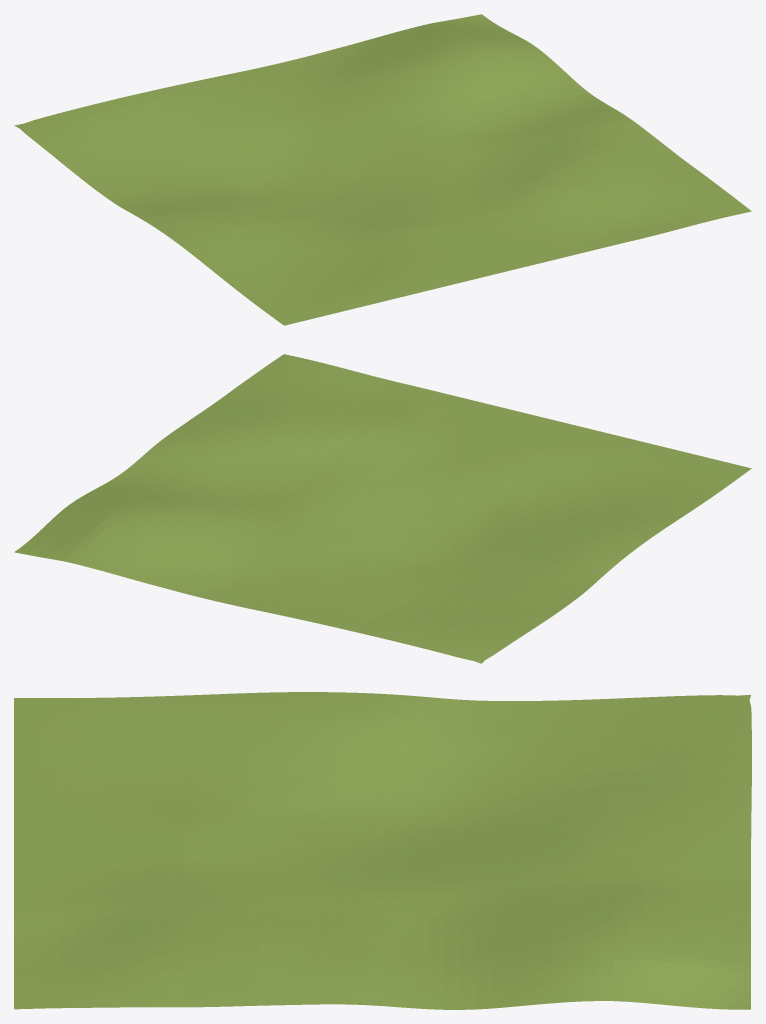
File: chap2terr.fbx
3 views of the same model, one above another, from view 1: azimuth 30°, elevation 25°; view 2: azimuth 150°, elevation 25°; view 3: azimuth 270°, elevation 25° (orthographic). The views are drawn at different scales.
Visible parts, largest first — view 1: Plane.017; view 2: Plane.017; view 3: Plane.017.
Part boxes in pixels (bbox=[...]): Plane.017: bbox=[14, 14, 751, 325]; Plane.017: bbox=[14, 354, 751, 663]; Plane.017: bbox=[14, 692, 751, 1009].
Bounding box in the file's own units: 44.11 × 2.31 × 44.13.
